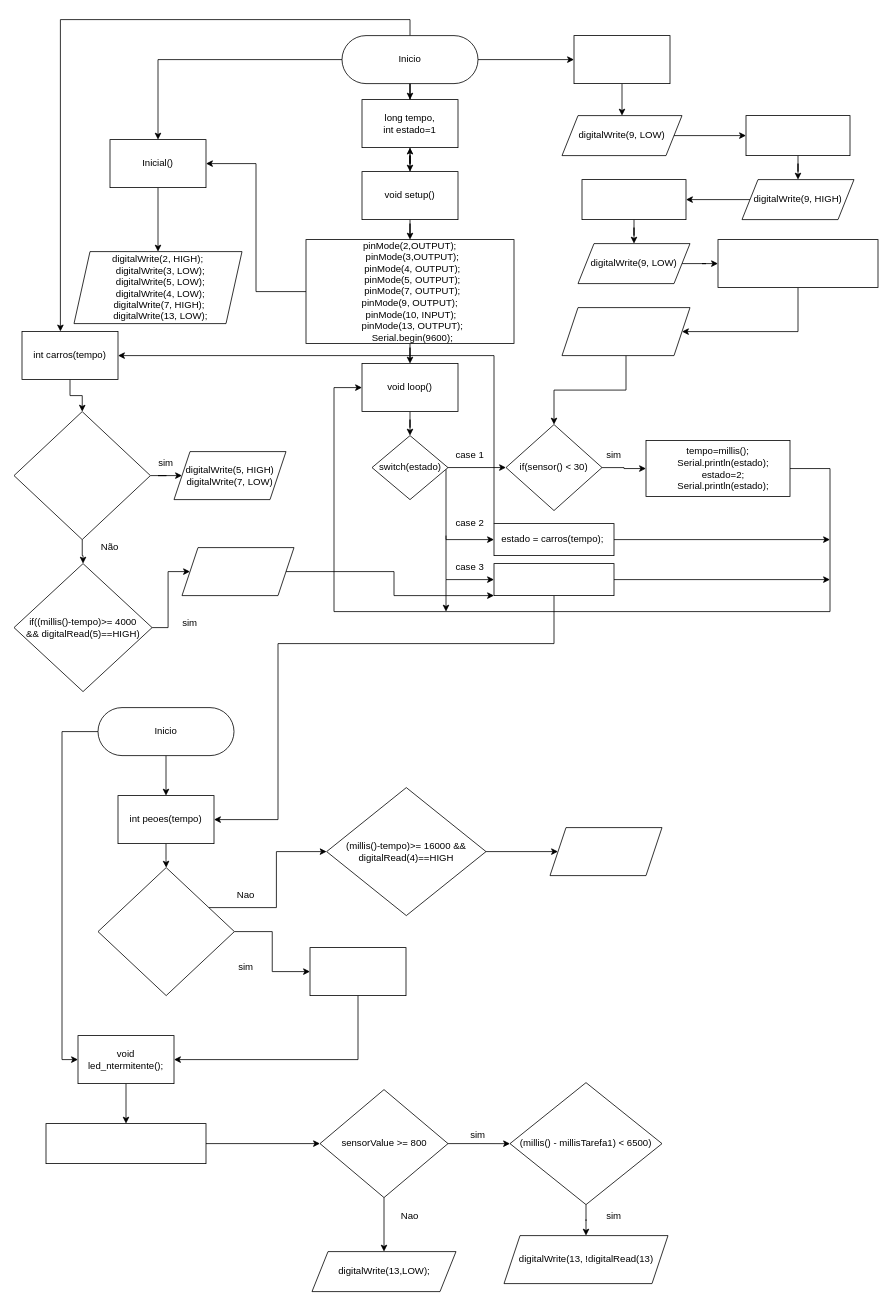
This 892x1306 diagram has some shape labels left out. The centre of each missing label's shape, as x and y in pixels:
delayMicroseconds(10): (x=633, y=199)
delayMicroseconds(2): (x=797, y=135)
digitalWrite(5, LOW) digitalWrite(4, HIGH); return 3: (x=237, y=571)
estado = peoes(tempo);: (x=553, y=579)
float duration = pulseIn(10, HIGH) float distance = duration * 0.034 / 2;: (x=797, y=263)
if((millis()-tempo)>= 2000 && digitalRead(7)==HIGH): (x=81, y=475)
if((millis()-tempo)>= 6000 && digitalRead(4)==HIGH): (x=165, y=931)
inicial() return 1;: (x=605, y=851)
int sensor(): (x=621, y=59)
led_intermitente();: (x=357, y=971)
long millisTarefa1 = millis() int sensorValue = analogRead(A0): (x=125, y=1143)
Serial.println(distance); return distance;: (x=625, y=331)
